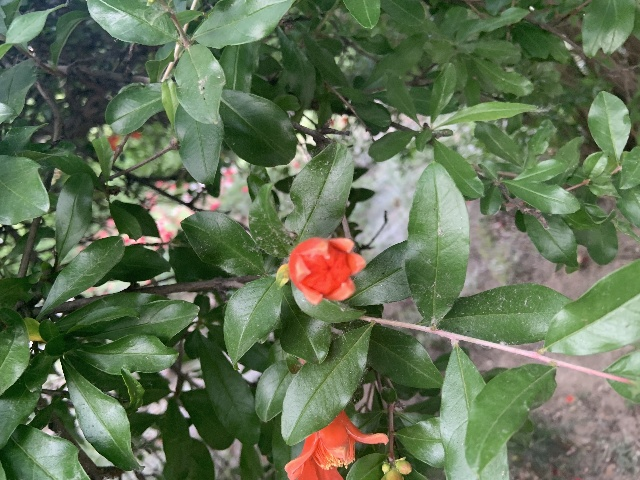flower: (284, 408, 388, 480), (288, 236, 365, 304)
